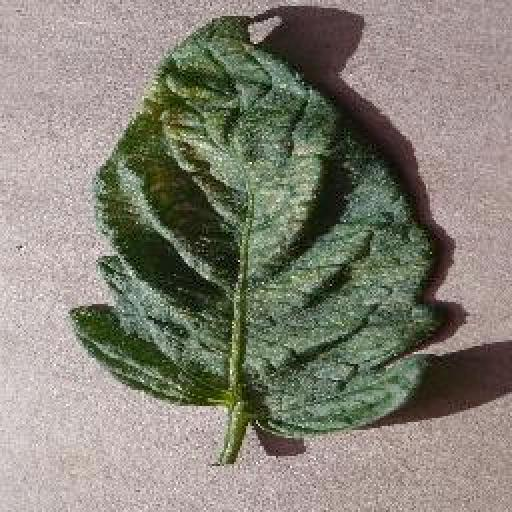disease_tomato: (72, 14, 436, 438)
